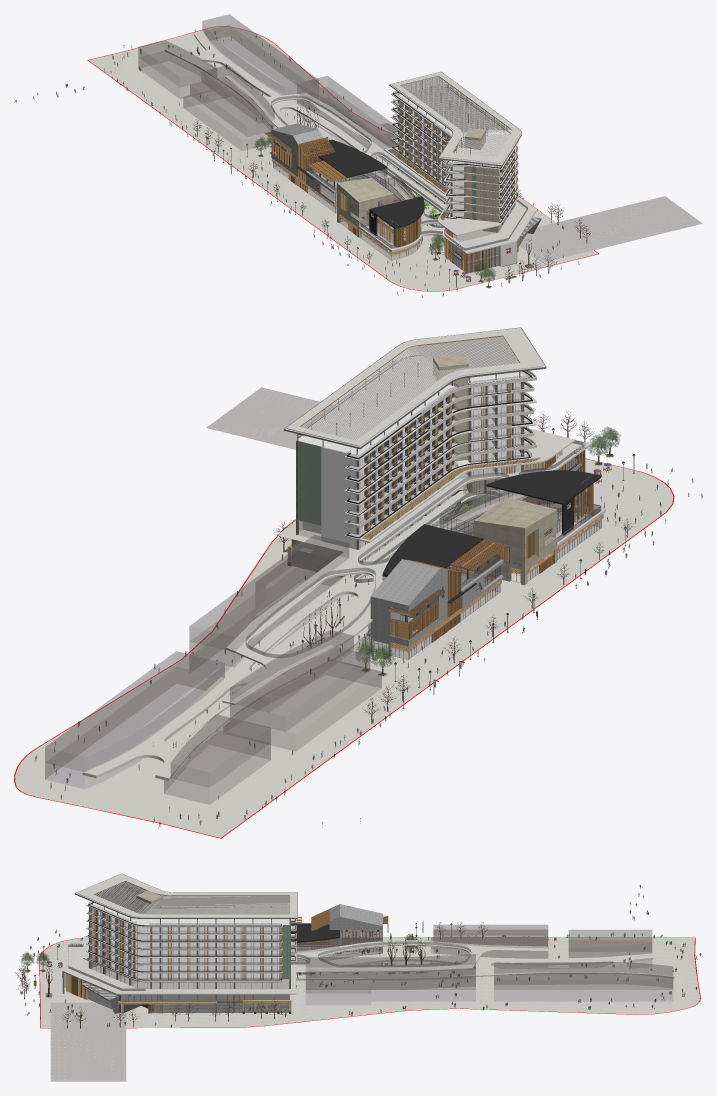
Rendered from yuanlin.glb.
The picture shows the model from 3 angles, top to bottom: view 1: azimuth 30°, elevation 25°; view 2: azimuth 150°, elevation 25°; view 3: azimuth 270°, elevation 25°; orthographic projection. The views are drawn at different scales.
Visible parts, largest first — view 1: root; view 2: root; view 3: root.
Boxes of the visible parts, box(x1,y1,x2,y2) form: root: box(14, 14, 702, 297); root: box(14, 327, 702, 838); root: box(15, 873, 702, 1081).
Size of the model in its own units: 177 by 43.05 by 268.
35 materials, 35 textured.
